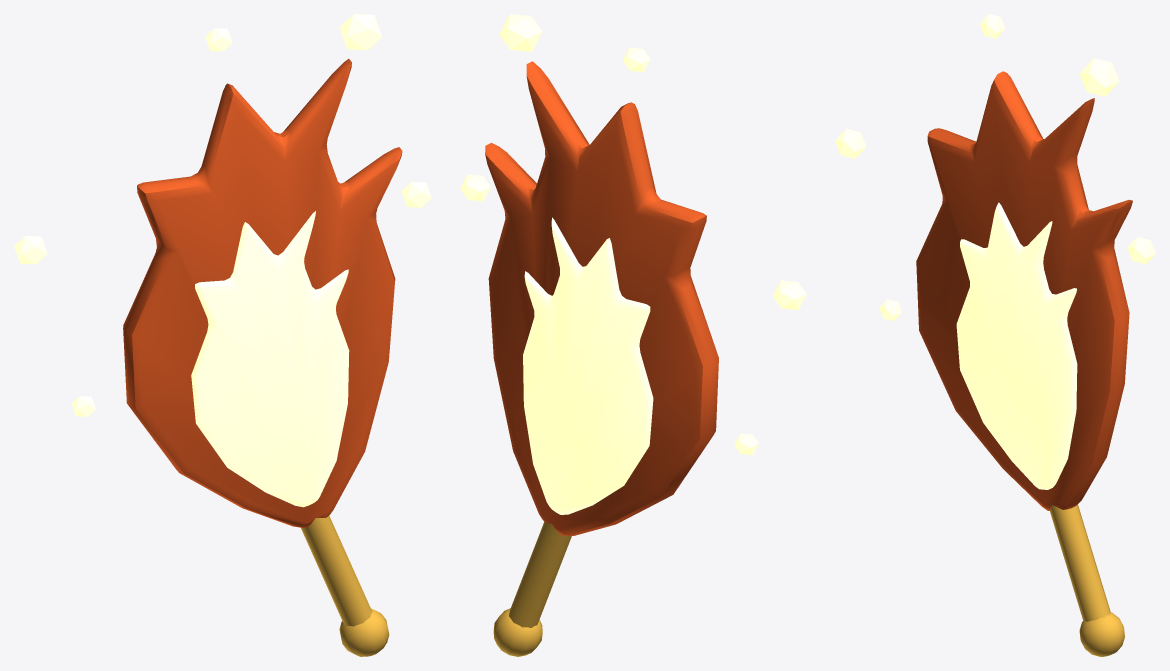
The model's file is Phoenix.fbx.
The picture shows the model from 3 angles, left to right: view 1: azimuth 30°, elevation 25°; view 2: azimuth 150°, elevation 25°; view 3: azimuth 330°, elevation 25°; orthographic projection. The views are drawn at different scales.
Visible parts, largest first — view 1: Phoenix_Body, Phoenix_Neon, Phoenix_Trim; view 2: Phoenix_Body, Phoenix_Neon, Phoenix_Trim; view 3: Phoenix_Body, Phoenix_Neon, Phoenix_Trim.
Boxes of the visible parts, x1,y1,x2,y2 form: Phoenix_Body: (123,58,402,527); Phoenix_Neon: (14,14,431,507); Phoenix_Trim: (301,516,389,656); Phoenix_Body: (485,61,718,535); Phoenix_Neon: (460,14,806,514); Phoenix_Trim: (493,522,571,656); Phoenix_Body: (916,71,1132,510); Phoenix_Neon: (835,14,1155,489); Phoenix_Trim: (1049,504,1124,656).
Size of the model in its own units: 1.82 by 3 by 0.4242.
